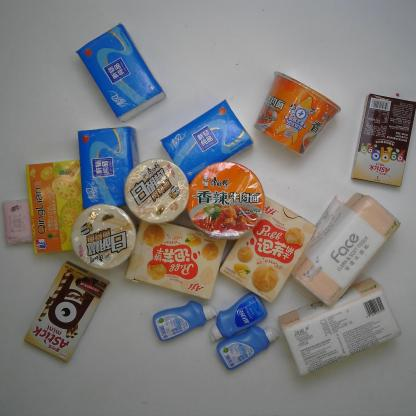Dessert: (219, 194, 319, 306), (23, 260, 110, 363), (124, 219, 227, 301), (350, 92, 416, 188), (26, 158, 84, 254)
Instant Noodles: (252, 71, 342, 157), (186, 160, 266, 241), (123, 158, 191, 224), (70, 203, 137, 269)
Personal Hygiene: (209, 290, 268, 343), (215, 324, 280, 372), (152, 300, 218, 342)
Tissue: (290, 192, 402, 310), (276, 275, 403, 379), (75, 22, 167, 123), (159, 99, 255, 186), (76, 124, 140, 210), (2, 198, 33, 246)
